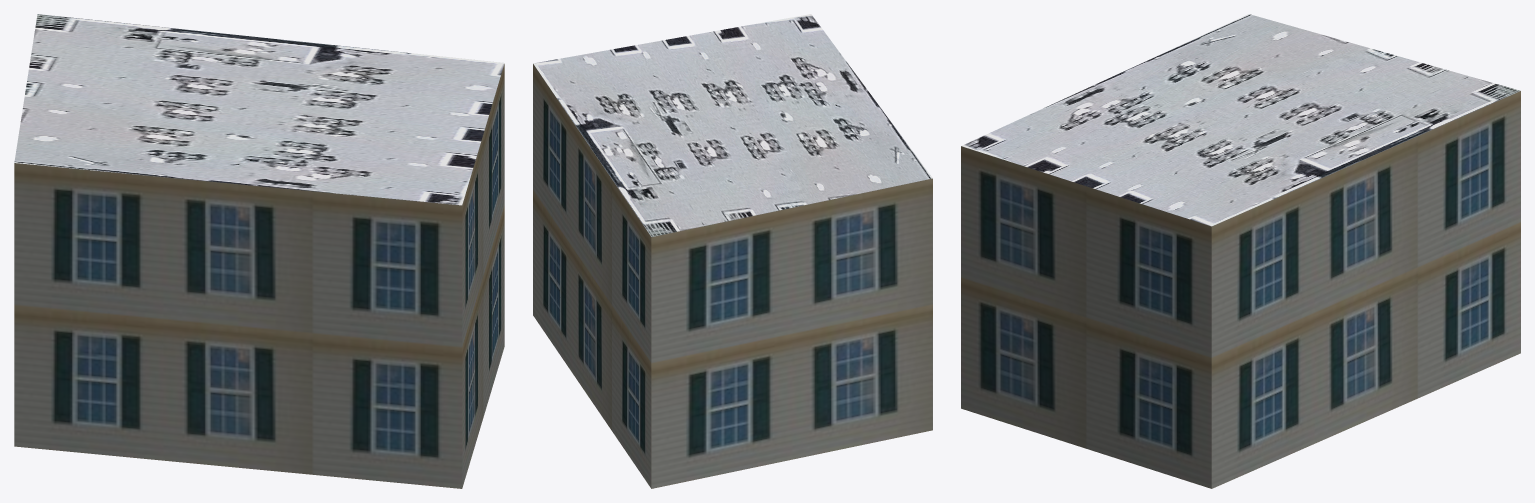
Rendered from ResTex__4602.fbx.
3 renders of one model, left to right at view 1: azimuth 30°, elevation 25°; view 2: azimuth 150°, elevation 25°; view 3: azimuth 270°, elevation 25°, orthographic. The views are drawn at different scales.
Visible parts, largest first — view 1: CityEngineMaterial_7_m, CityEngineMaterial_8_m; view 2: CityEngineMaterial_7_m, CityEngineMaterial_8_m; view 3: CityEngineMaterial_7_m, CityEngineMaterial_8_m.
Part boxes in pixels (box(x1,y1,x2,y2)): CityEngineMaterial_7_m: box(14, 64, 504, 488); CityEngineMaterial_8_m: box(14, 14, 504, 205); CityEngineMaterial_7_m: box(533, 64, 932, 488); CityEngineMaterial_8_m: box(533, 14, 932, 236); CityEngineMaterial_7_m: box(961, 91, 1520, 488); CityEngineMaterial_8_m: box(961, 14, 1520, 226).
Size of the model in its own units: 10.41 by 6 by 11.6.
Materials: 2 (2 with a texture image).
